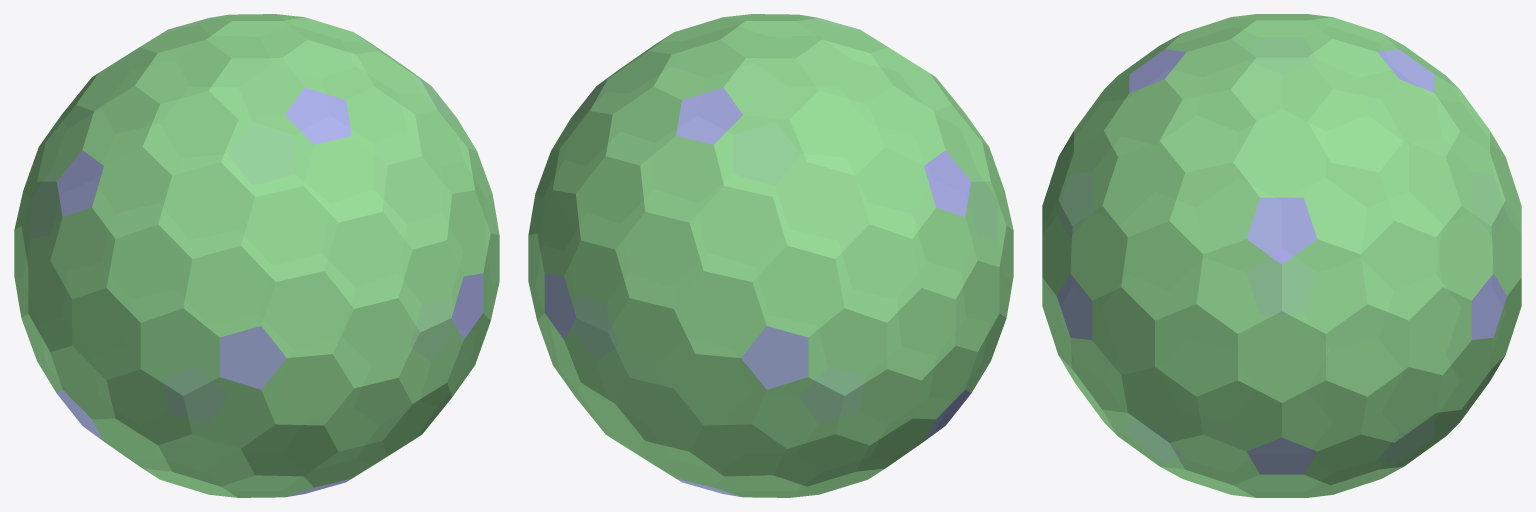
File: ChamferedTruncatedIcosahedron.obj
3 renders of one model, left to right at view 1: azimuth 30°, elevation 25°; view 2: azimuth 150°, elevation 25°; view 3: azimuth 270°, elevation 25°, orthographic.
Size of the model in its own units: 1.97 by 1.97 by 1.97.
